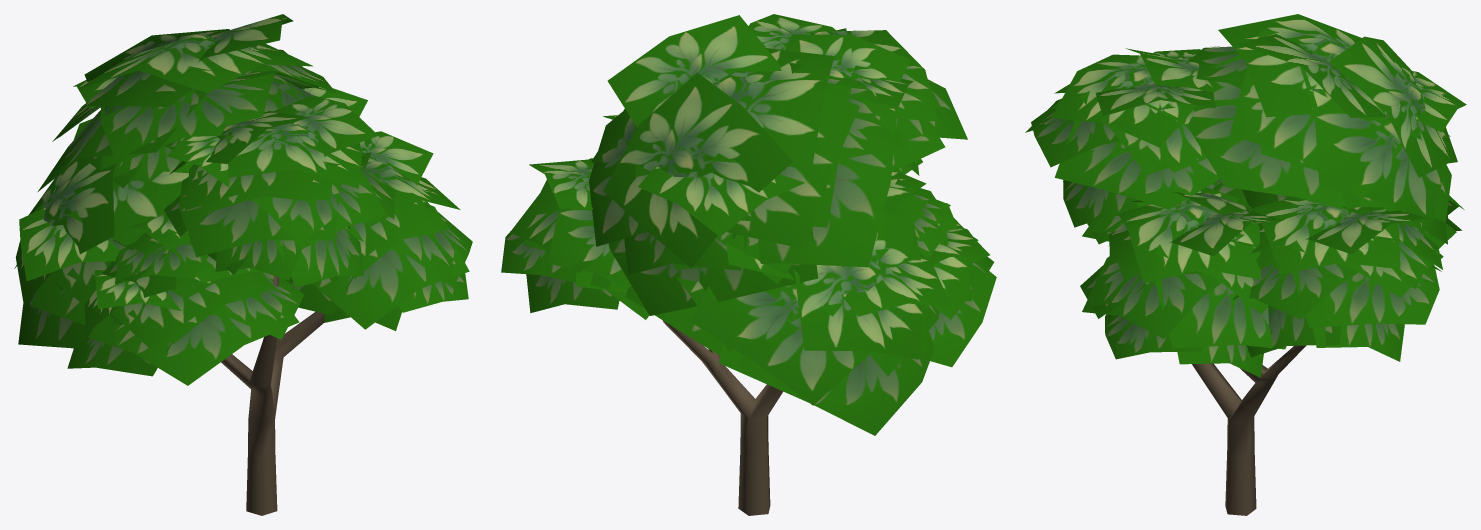
The model's file is Tree_005_Mesh_003.fbx.
3 renders of one model, left to right at view 1: azimuth 30°, elevation 25°; view 2: azimuth 150°, elevation 25°; view 3: azimuth 270°, elevation 25°, orthographic. The views are drawn at different scales.
Visible parts, largest first — view 1: Tree_005_Mesh_003; view 2: Tree_005_Mesh_003; view 3: Tree_005_Mesh_003.
Part boxes in pixels (left/top/right/bottom): Tree_005_Mesh_003: left=14, top=14, right=472, bottom=515; Tree_005_Mesh_003: left=501, top=14, right=996, bottom=515; Tree_005_Mesh_003: left=1025, top=14, right=1466, bottom=515.
Bounding box in the file's own units: 3138 × 3566 × 3011.
